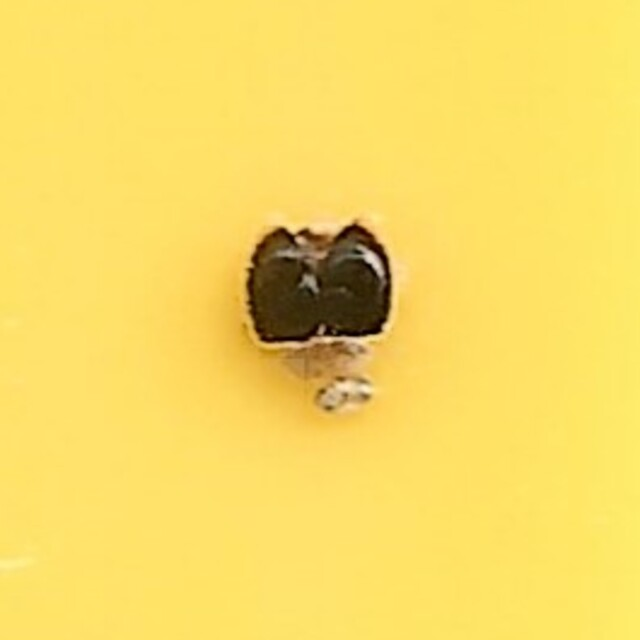Coleoptera: (242, 221, 398, 419)
